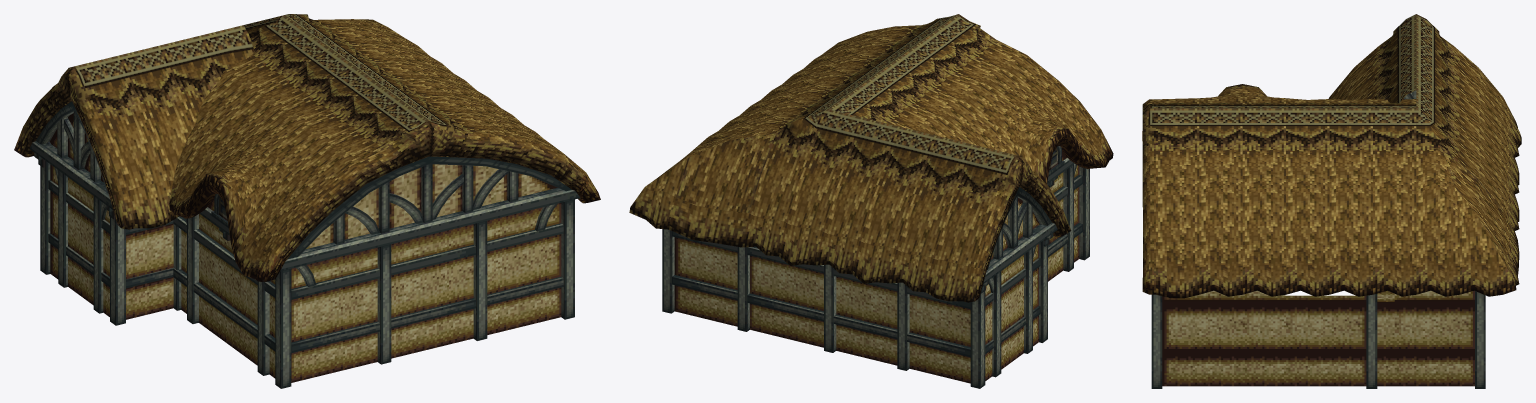
File: EnvBdgMD_Forest_A_Outdoor_House_I.FBX
The picture shows the model from 3 angles, left to right: view 1: azimuth 30°, elevation 25°; view 2: azimuth 150°, elevation 25°; view 3: azimuth 270°, elevation 25°; orthographic projection. The views are drawn at different scales.
Parts seen in each view (by area): view 1: EnvBdgMD_Forest_A_Outdoor_House_I; view 2: EnvBdgMD_Forest_A_Outdoor_House_I; view 3: EnvBdgMD_Forest_A_Outdoor_House_I.
Boxes of the visible parts, left/top/right/bottom form: EnvBdgMD_Forest_A_Outdoor_House_I: left=14, top=14, right=600, bottom=388; EnvBdgMD_Forest_A_Outdoor_House_I: left=629, top=14, right=1113, bottom=388; EnvBdgMD_Forest_A_Outdoor_House_I: left=1142, top=14, right=1521, bottom=388.
Bounding box in the file's own units: 959 × 545 × 874.
